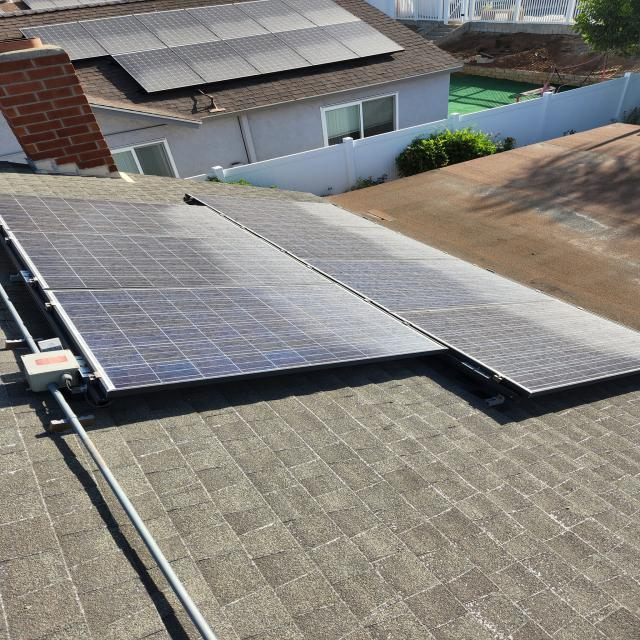dust-solar-panel: (0, 172, 640, 401)
